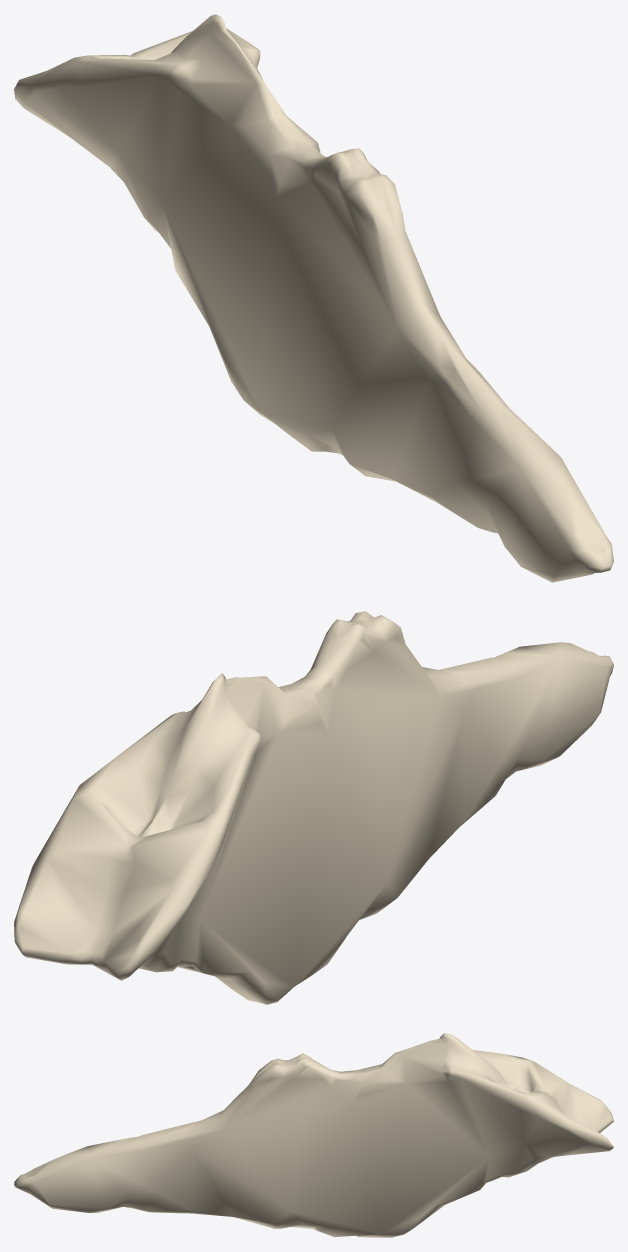
The model's file is vomer.glb.
3 renders of one model, top to bottom at view 1: azimuth 30°, elevation 25°; view 2: azimuth 150°, elevation 25°; view 3: azimuth 270°, elevation 25°, orthographic. The views are drawn at different scales.
Parts seen in each view (by area): view 1: Vomer; view 2: Vomer; view 3: Vomer.
Boxes of the visible parts, left/top/right/bottom form: Vomer: left=14, top=14, right=613, bottom=582; Vomer: left=14, top=611, right=613, bottom=1004; Vomer: left=14, top=1033, right=613, bottom=1237.
Bounding box in the file's own units: 0.0102 × 0.023 × 0.0611.
